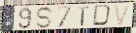7: (57, 5, 73, 29)
9: (18, 7, 33, 30)
D: (92, 4, 114, 28)
S: (36, 6, 55, 30)
T: (78, 6, 91, 27)
V: (113, 3, 133, 27)
